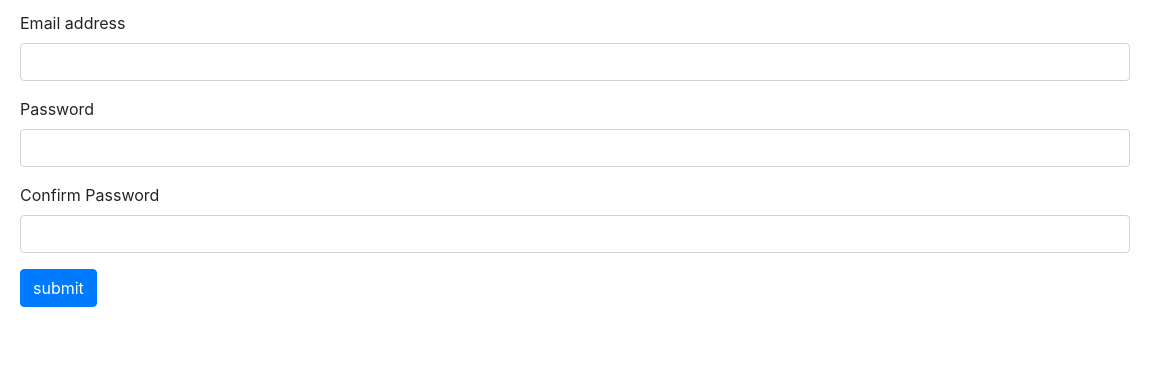
Test case: Login Form Component › should show confirmed password error if password do not match
Type "amir@gmail.com" into the field labelled "Email address".
click(575, 62); type("amir@gmail.com")  # box [20,43,1130,81]
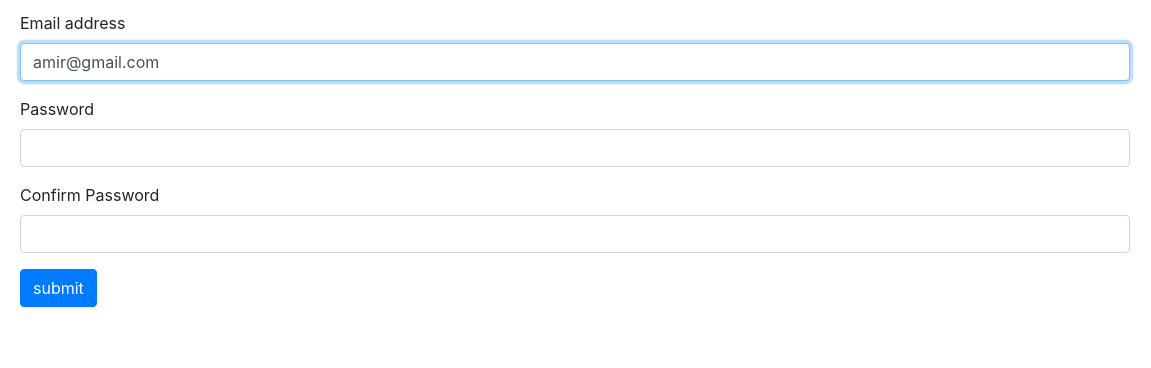
Type "12345" into the password field labelled "Password".
click(575, 148); type("12345")  # box [20,129,1130,167]
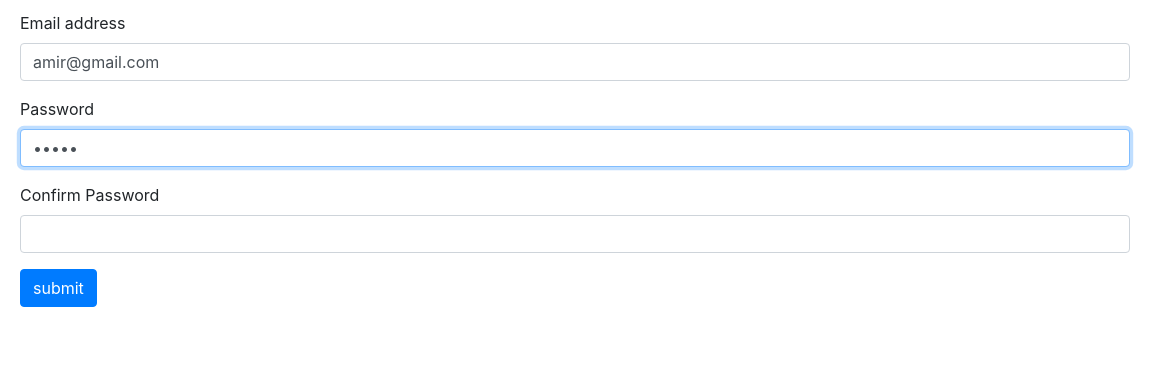
Type "123456" into the password field labelled "Confirm Password".
click(575, 234); type("123456")  # box [20,215,1130,253]
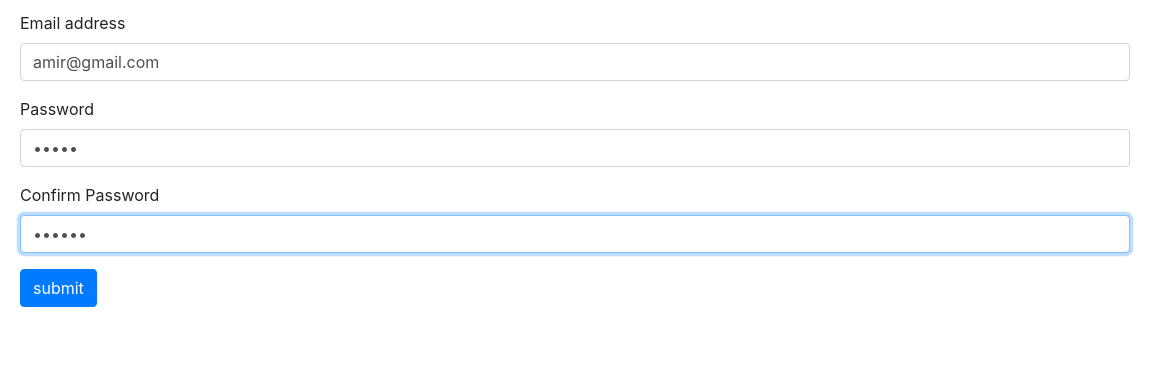
Click the button "submit".
click(58, 288)  # box [20,269,97,307]
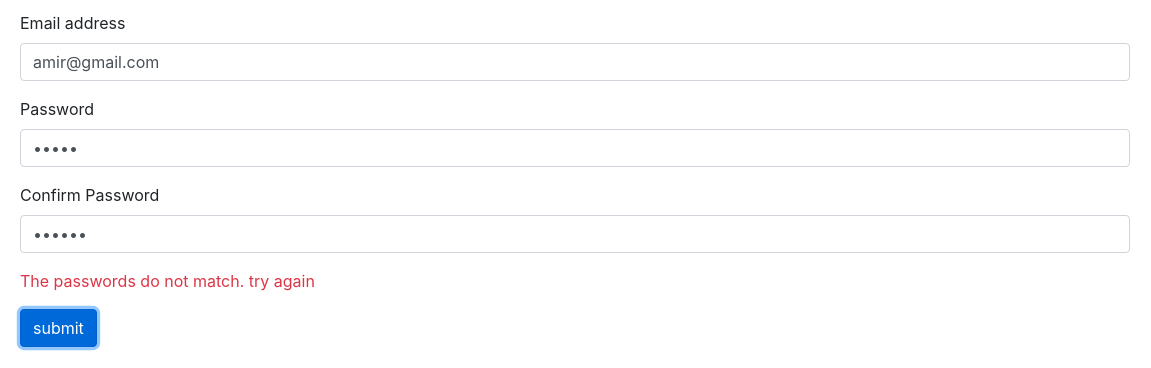
Expected: the text "The passwords do not match. try again" is shown, [20,271,315,291]
